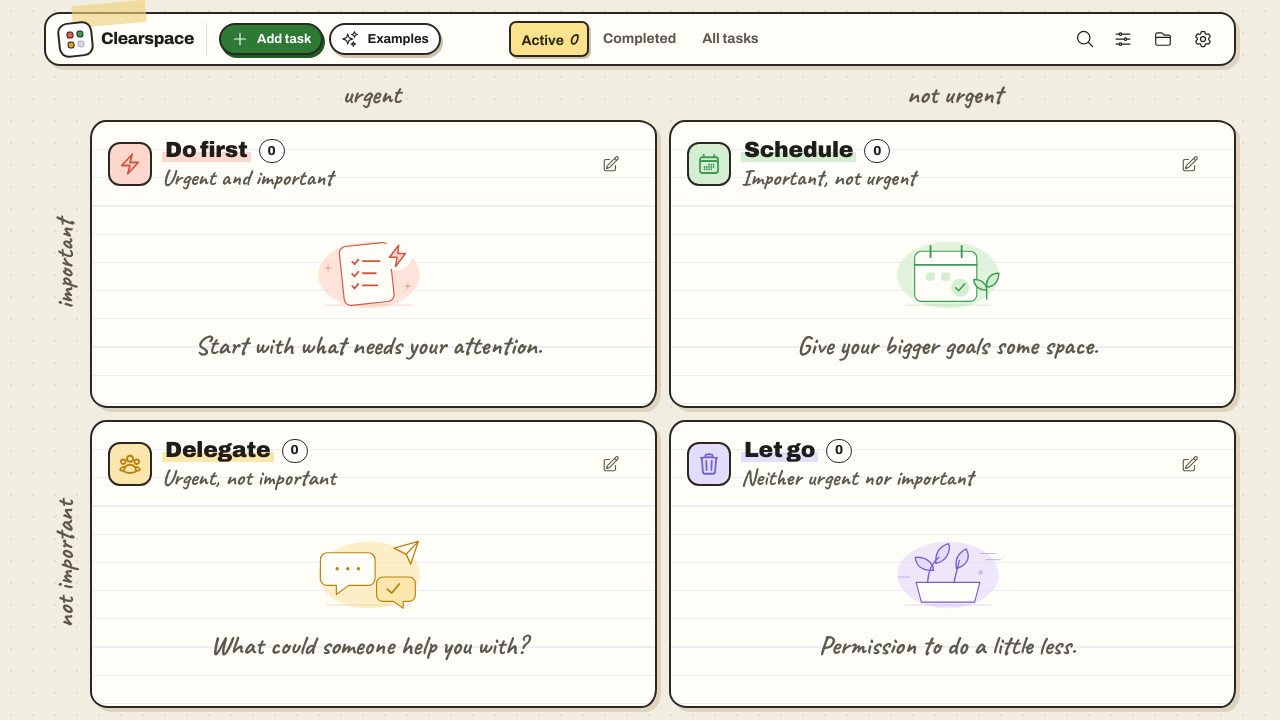
Test case: adds a Work task, saves it in the existing storage format, and undoes it
The width and height of the screenshot is (1280, 720).
Click the button with aria-label "Add your first task": x=271, y=39 [219,23,323,55]
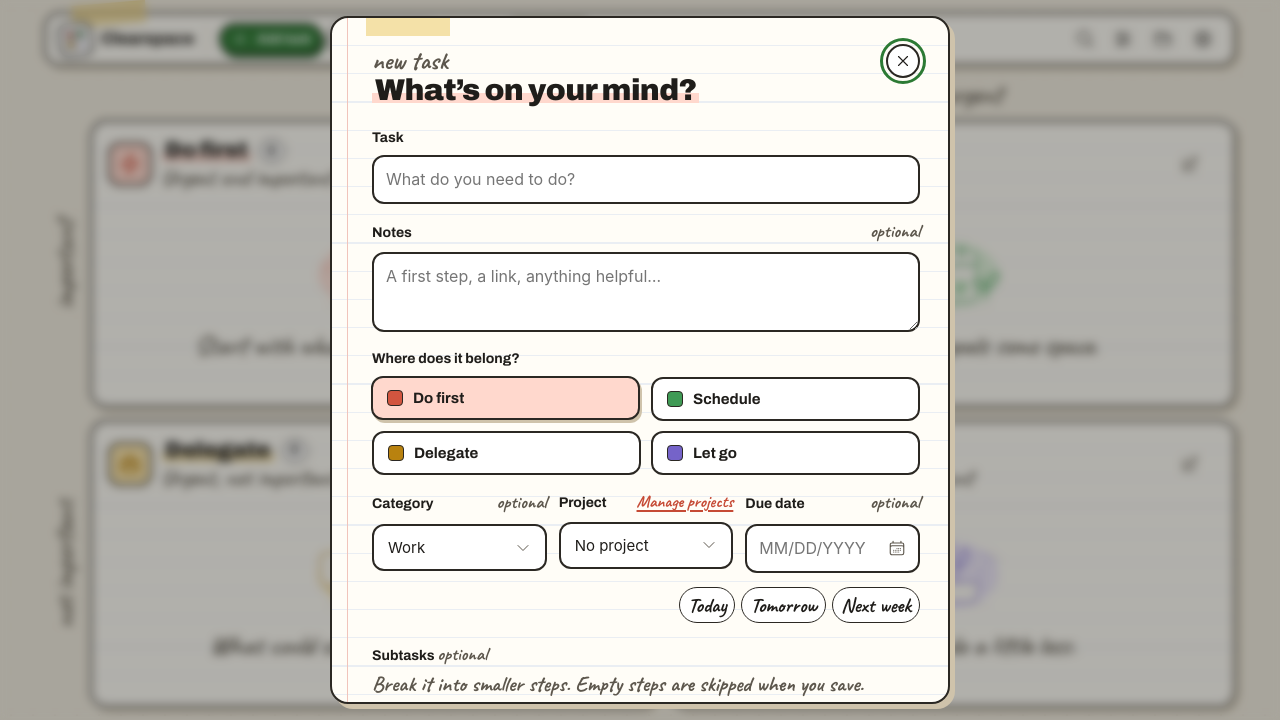
Expected: the dropdown named "Category" reads "Work", [372,524,547,571]
In the field labelled "Task": x=646, y=180 [372,155,920,204], type "Ship the React app"
(page scrolled)
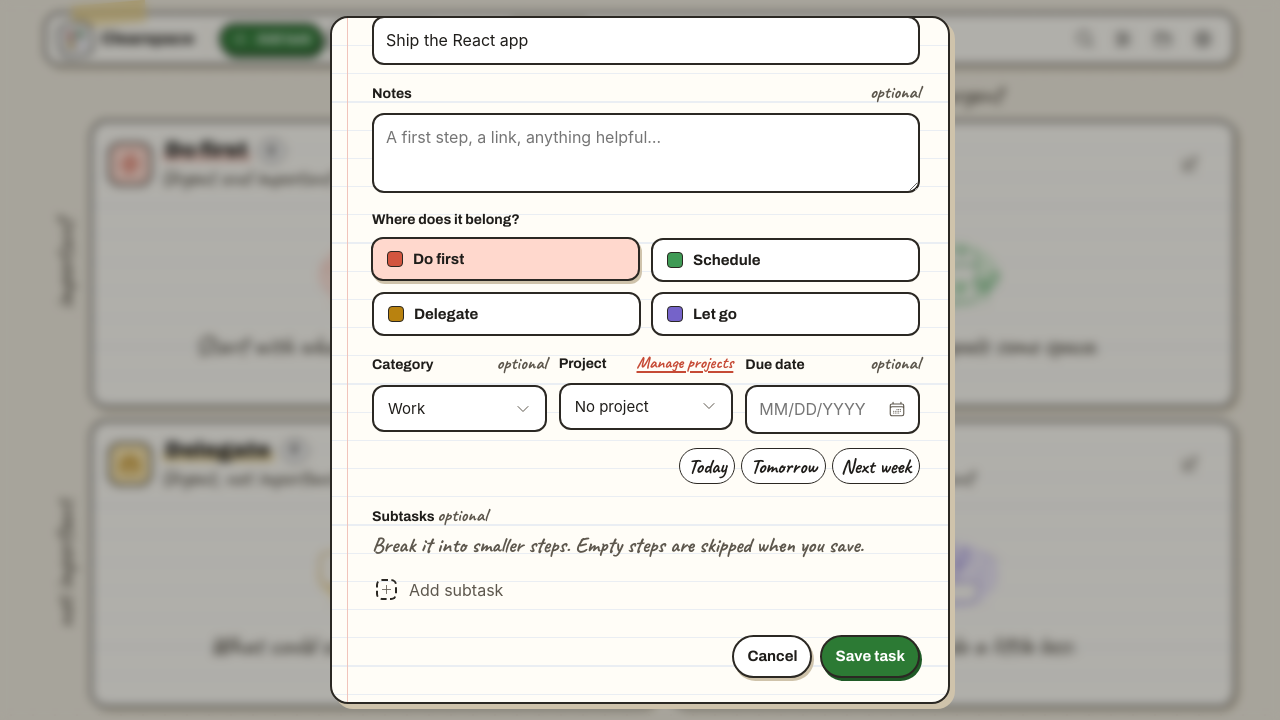
Click the button "Save task": x=870, y=656 [820,635,920,678]
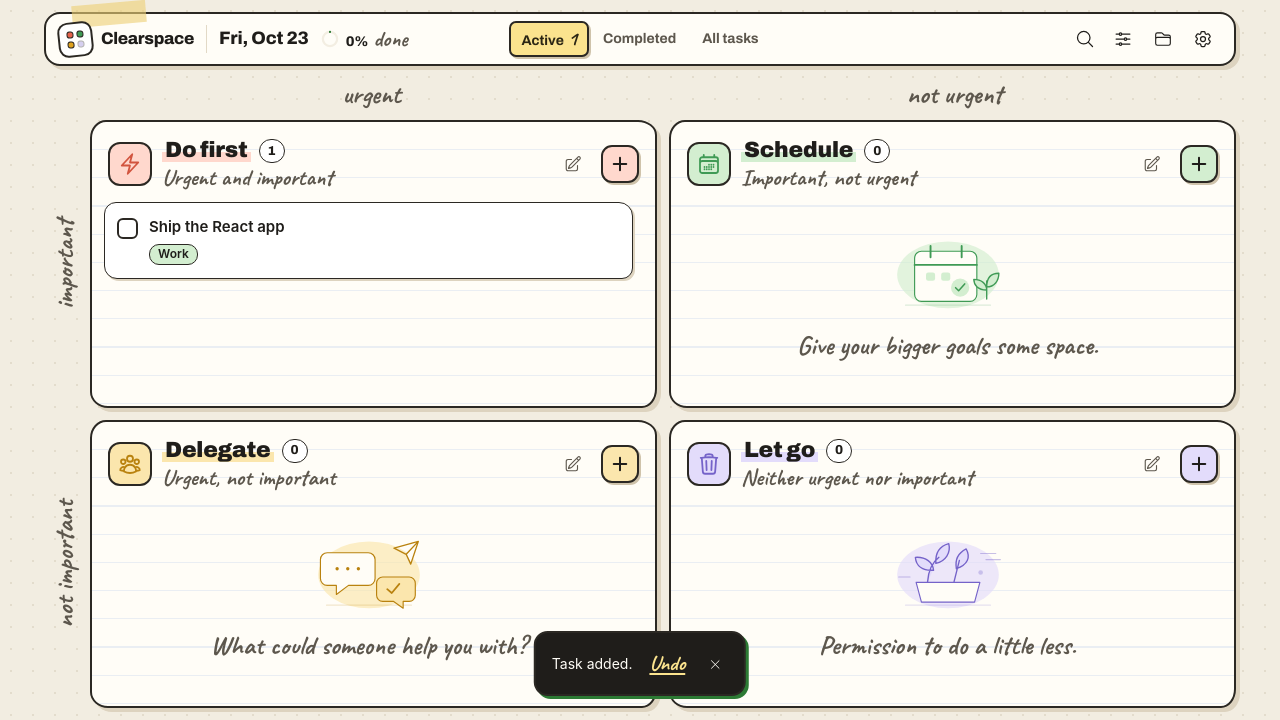
Expected: the text "Ship the React app" is shown, [149,217,284,236]
Expected: the number of buttons named "Add a task to " is 4, [601,145,639,183]; [1180,145,1218,183]; [601,445,639,483]; [1180,445,1218,483]
Click the button "Undo": x=667, y=663 [646,644,688,682]
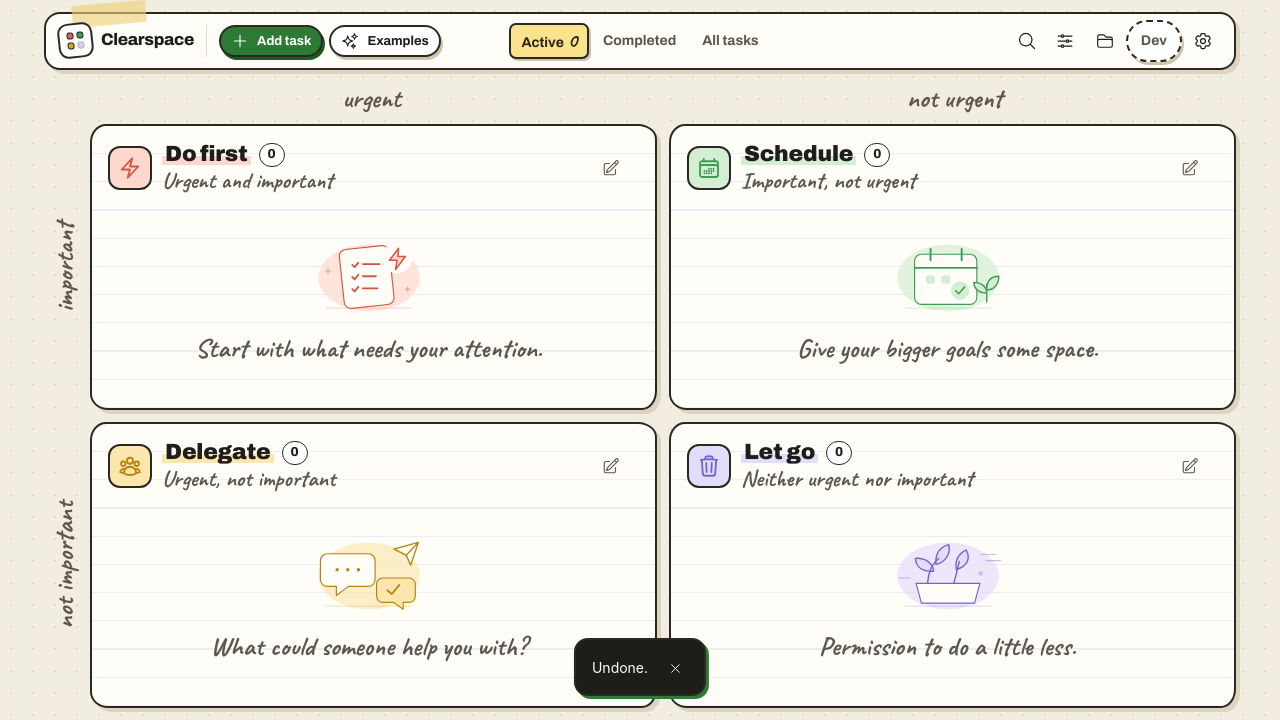
Expected: the button "Ship the React app" is gone
Expected: the button "Quick add task" is gone
